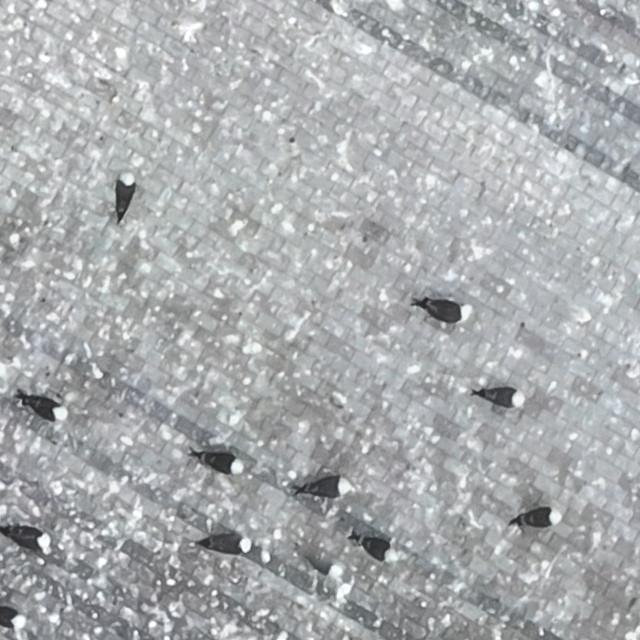umineko: (112, 173, 135, 222), (300, 478, 350, 498), (307, 551, 342, 578), (6, 527, 49, 548), (26, 397, 66, 419), (200, 451, 243, 471), (206, 535, 251, 554), (358, 538, 396, 560), (484, 388, 524, 408), (426, 301, 466, 321), (520, 509, 560, 528), (0, 606, 24, 626)
